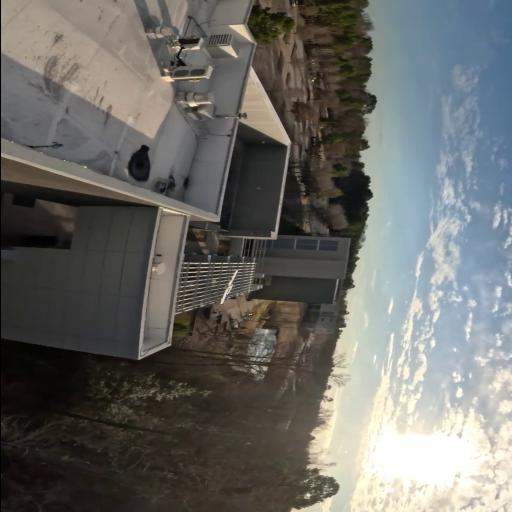uav: (216, 269, 240, 305)
